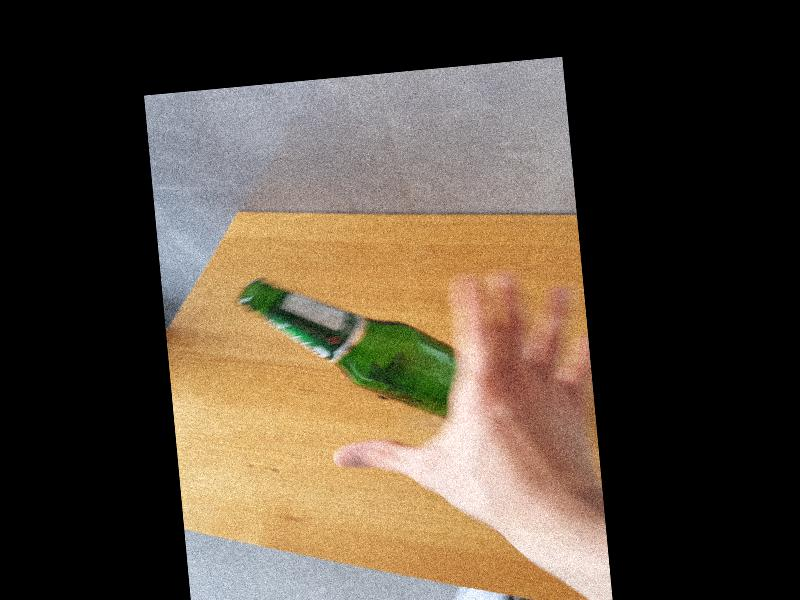Beer: (234, 262, 459, 438)
